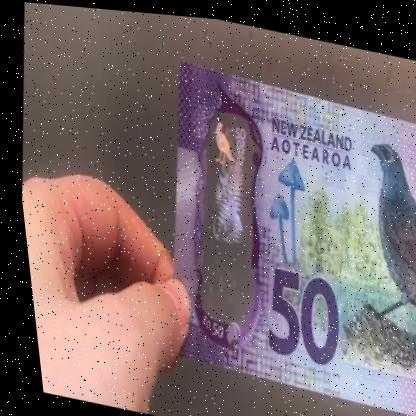50B: (187, 110, 264, 312)
